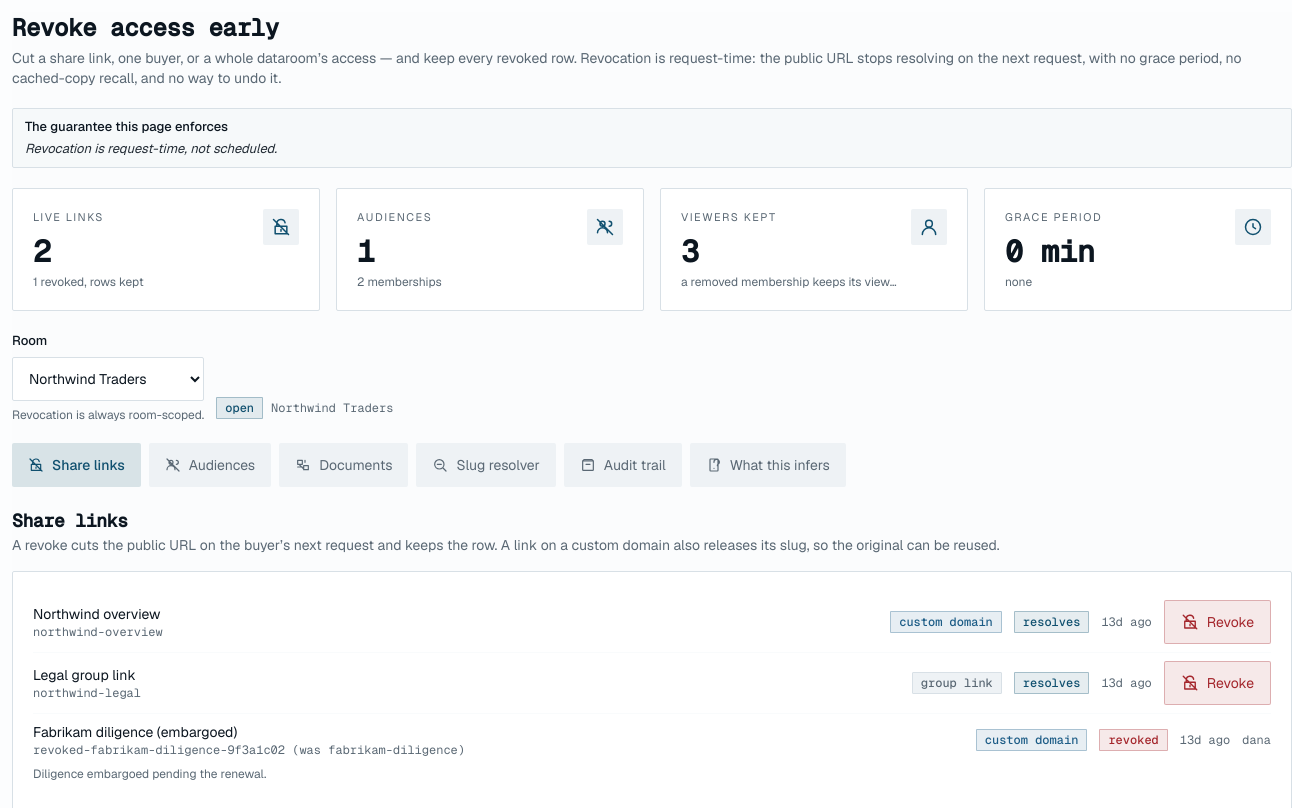
audiences › offers removal per membership, and names the buyer
The width and height of the screenshot is (1292, 808).
Check: the tab "Share links" is shown, box [12, 444, 141, 488]
Click the tab "Audiences".
click(210, 466)  # box [149, 444, 271, 488]
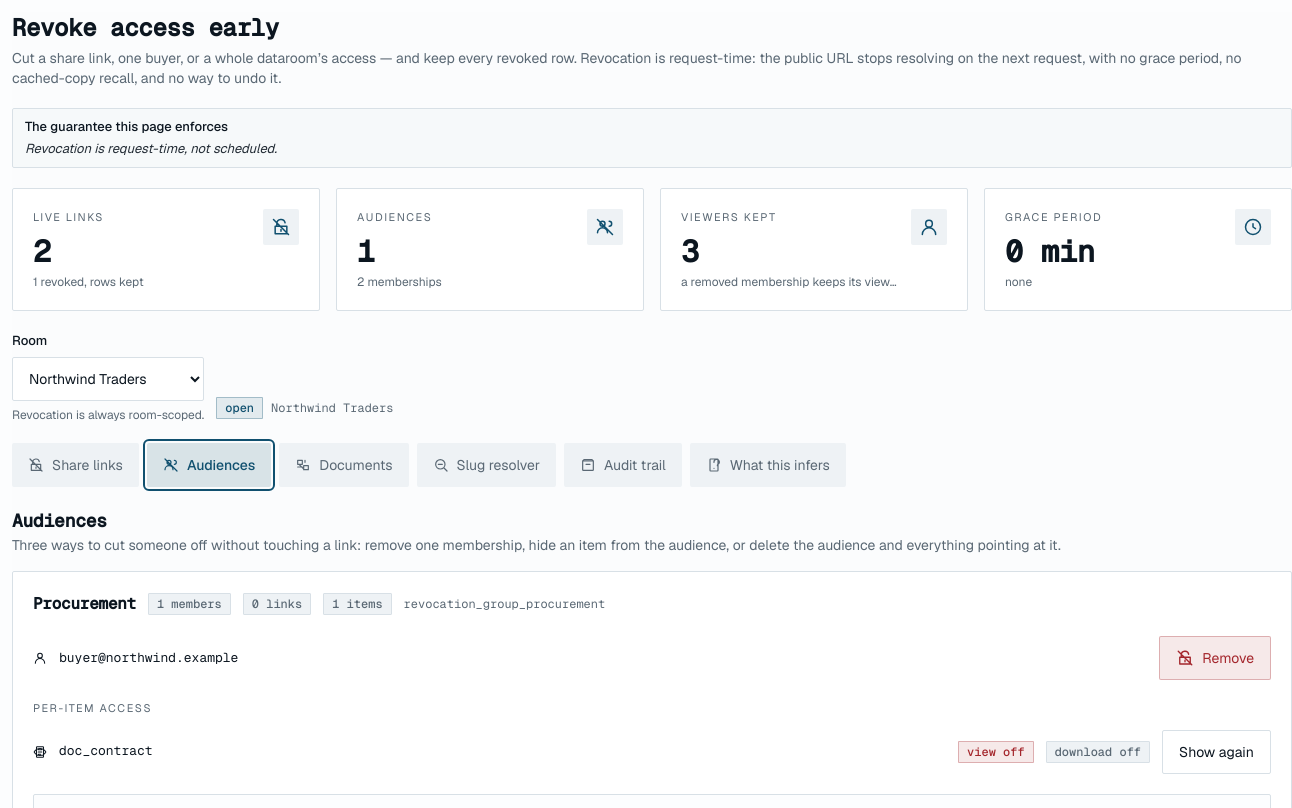
Check: the button "Remove" is shown, box [1159, 636, 1271, 680]
Check: the list item "buyer@northwind.example Remove" is shown, box [33, 628, 1271, 688]
